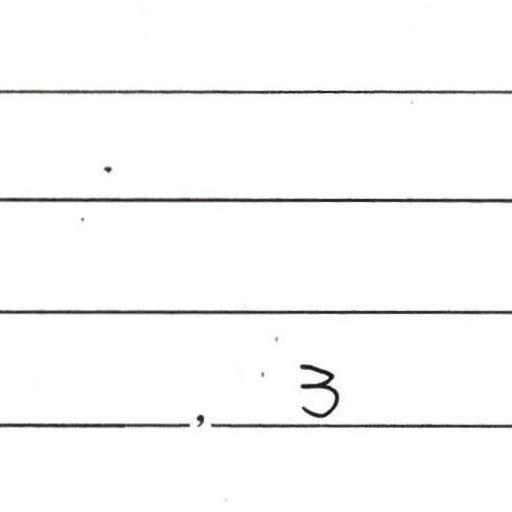ans: (293, 360, 344, 423)
